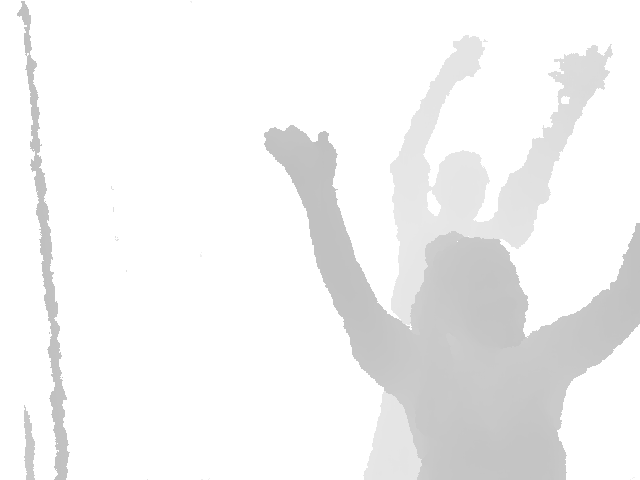hand: (262, 122, 339, 184), (545, 44, 614, 92), (438, 33, 486, 78)
head: (410, 232, 529, 351), (431, 150, 490, 218)
person: (262, 122, 640, 480), (361, 32, 614, 480)
